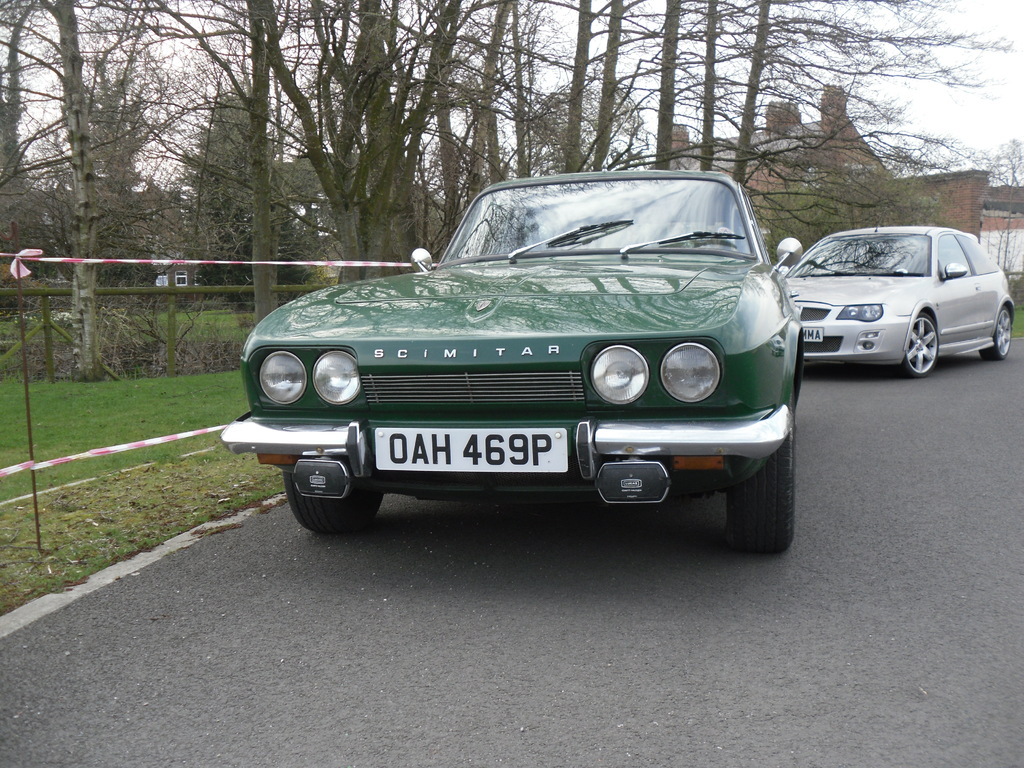mobil: (265, 171, 816, 554), (798, 221, 1019, 386)
